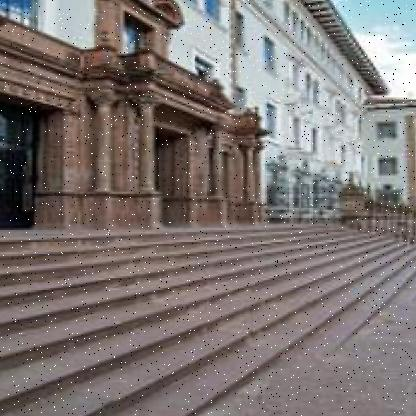stair_up: (2, 226, 289, 400)
